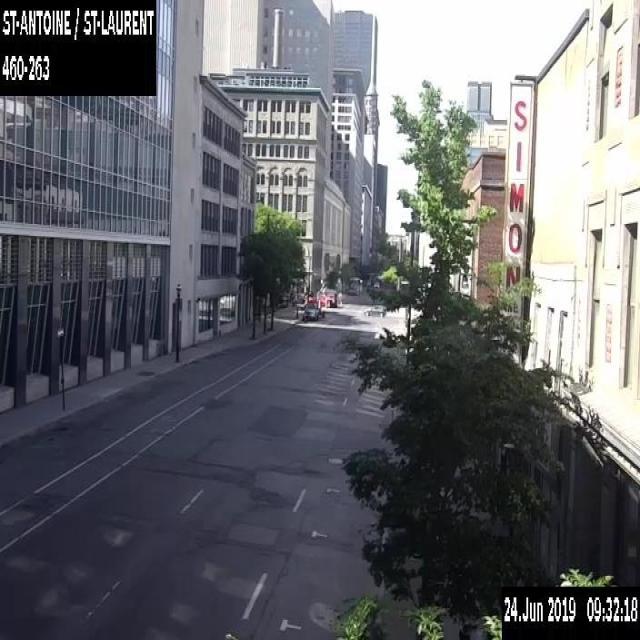bus: (347, 276, 363, 294)
vehicle: (317, 291, 337, 306), (363, 303, 386, 316), (302, 303, 318, 320), (373, 281, 379, 287)
